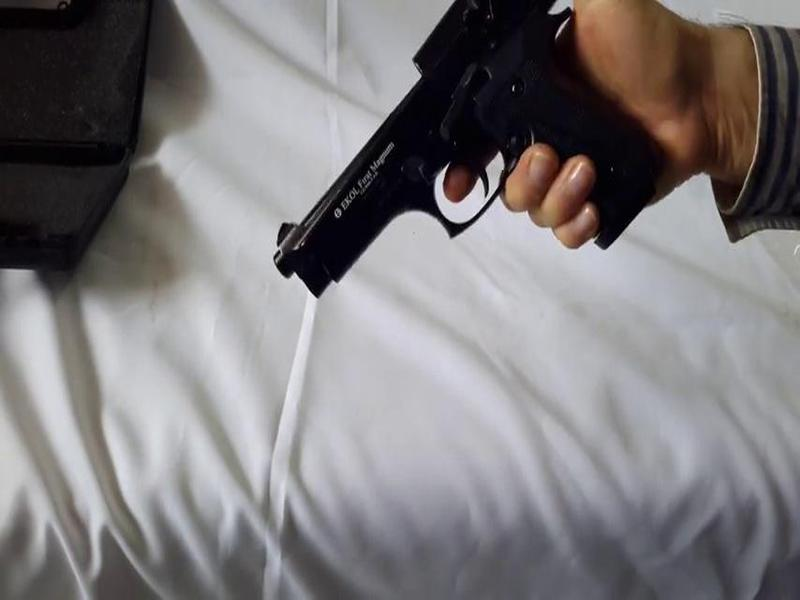Pistola: (274, 2, 691, 298)
